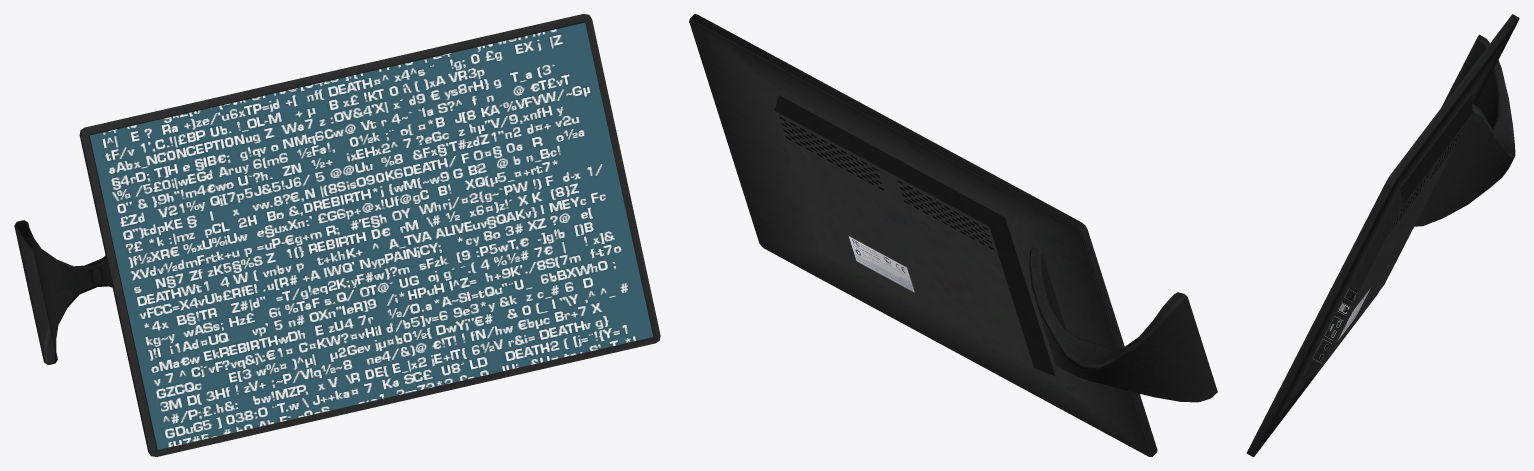
The model's file is monitor_large_right_down_gibberish.dae.
The picture shows the model from 3 angles, left to right: view 1: azimuth 30°, elevation 25°; view 2: azimuth 150°, elevation 25°; view 3: azimuth 270°, elevation 25°; orthographic projection. The views are drawn at different scales.
Visible parts, largest first — view 1: screen5, monRB; view 2: monRB; view 3: monRB.
Boxes of the visible parts, x1,y1,x2,y2 form: screen5: (89,22,653,449); monRB: (14,14,660,456); monRB: (689,14,1217,456); monRB: (1246,14,1519,456).
Bounding box in the file's own units: 0.5706 × 0.3403 × 0.2535.
